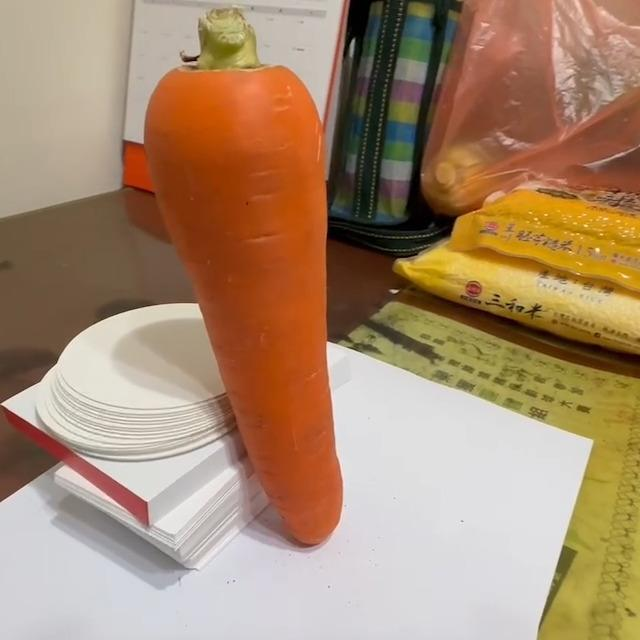carrot: (141, 10, 345, 551)
